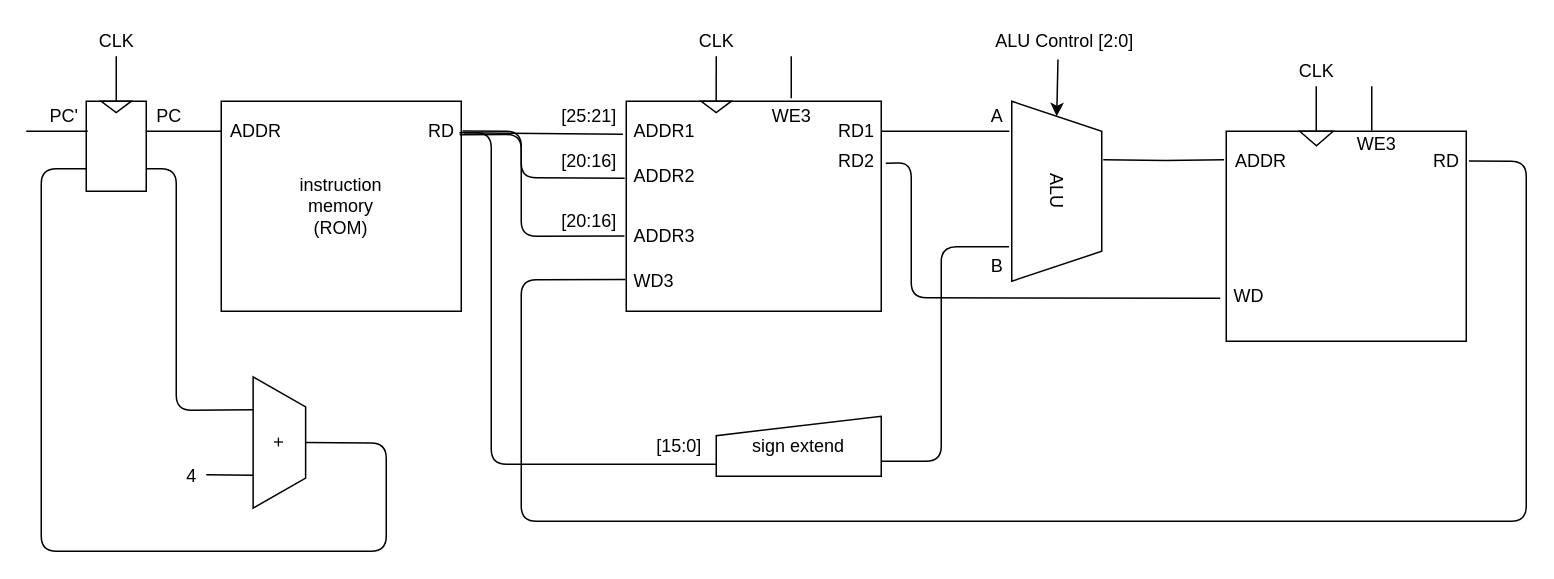
Image size: 1554x579. Some labels were removed from this diagram. The shapes that lost their labels are listed below. From the top down, each one's box as (x1, y1, x2, y2) in pixels, then its label:
(625, 100, 881, 311): register file
(1225, 130, 1466, 341): data memory
